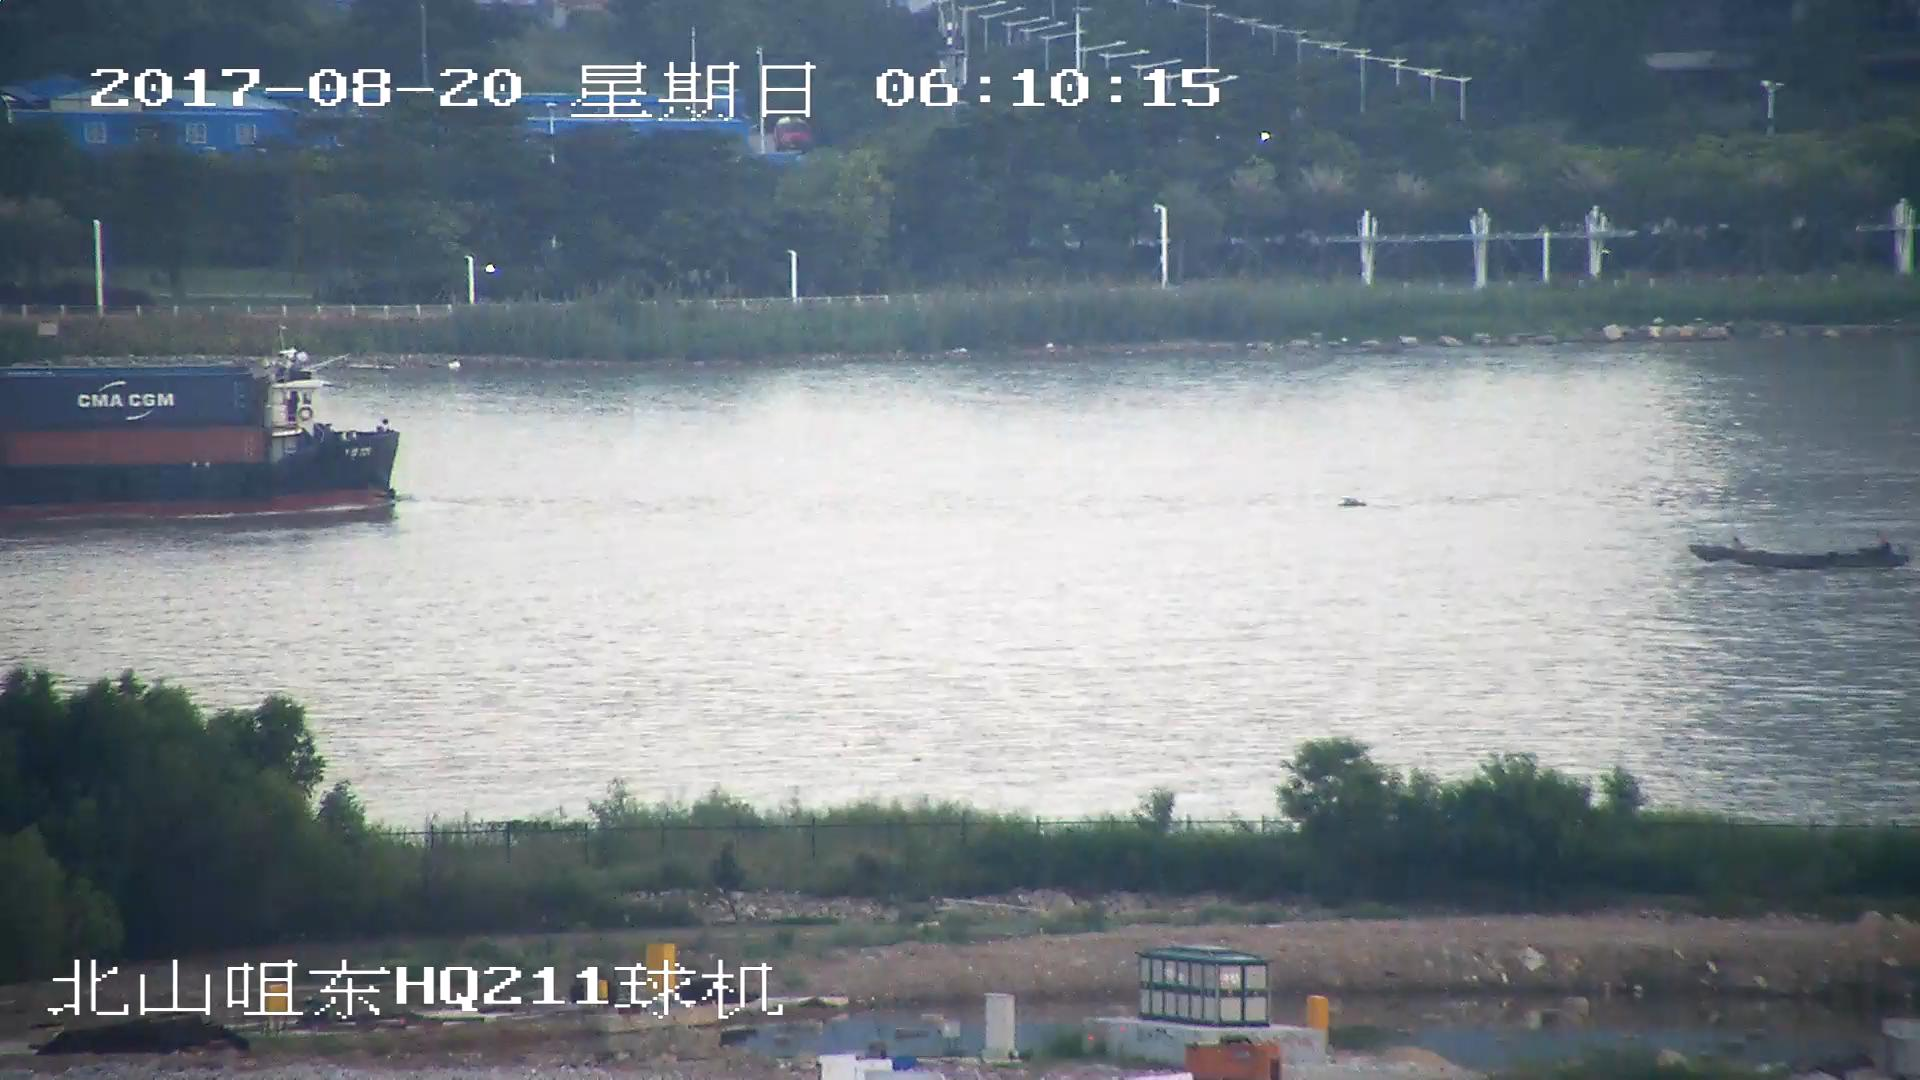container ship: (1, 346, 400, 517)
fishing boat: (1692, 534, 1911, 579)
